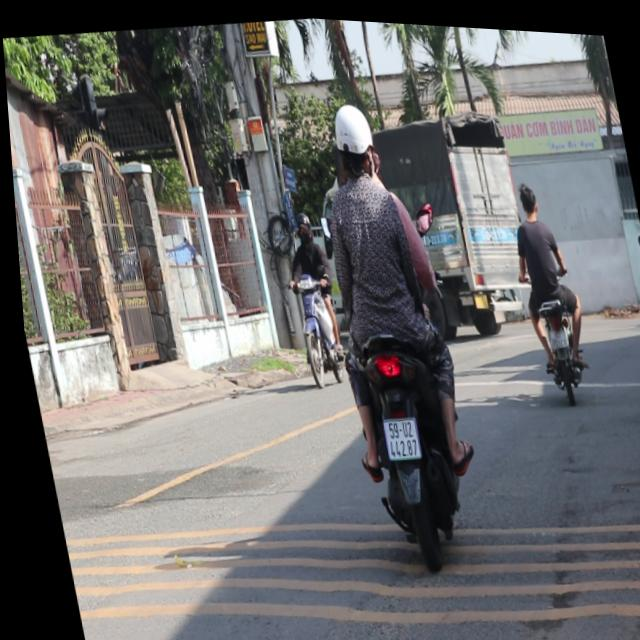helmet: (320, 91, 378, 177), (288, 204, 309, 237)
licenseplate: (285, 85, 488, 562), (495, 166, 592, 397), (270, 203, 344, 386), (608, 156, 640, 415)
motorcyclist: (510, 172, 536, 213)
nohelmet: (373, 409, 413, 455), (542, 320, 561, 341)
